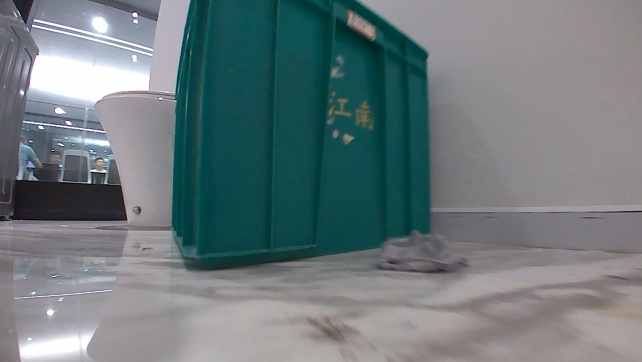socks: (375, 227, 471, 275)
toilet: (91, 87, 177, 229)
